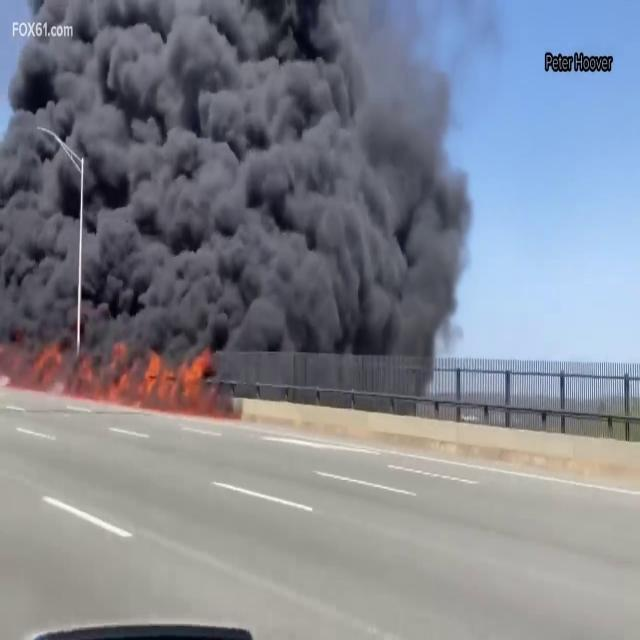Fire: (11, 332, 210, 412)
Smoke: (0, 0, 480, 383)
